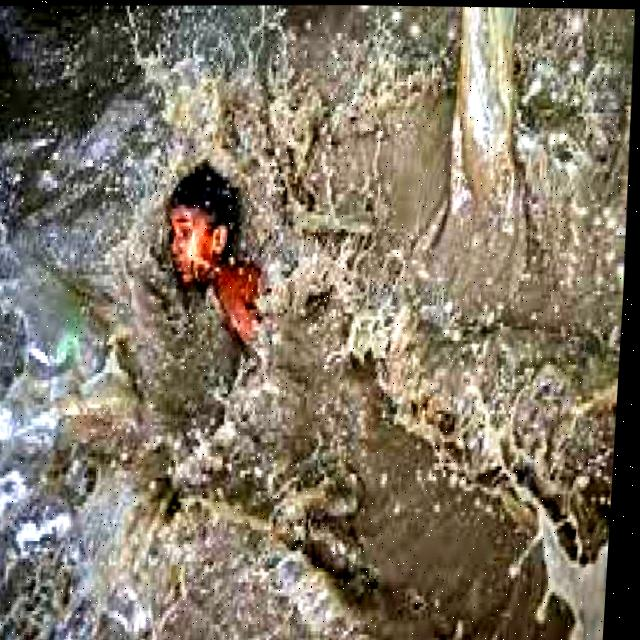civilian: (131, 126, 309, 381)
